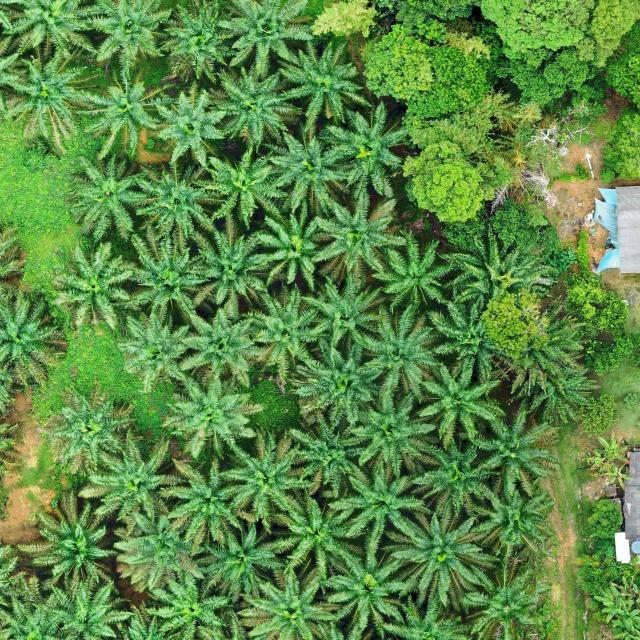Tree: (361, 23, 490, 128), (70, 51, 182, 164), (69, 428, 190, 531), (382, 506, 494, 616), (480, 0, 640, 69), (36, 378, 142, 479), (216, 424, 318, 526), (158, 368, 268, 462), (274, 35, 378, 134), (237, 280, 334, 386), (5, 49, 99, 157), (438, 229, 560, 312), (200, 60, 304, 153), (311, 181, 410, 278), (357, 303, 448, 408), (187, 140, 292, 230), (255, 125, 358, 214), (343, 384, 437, 481), (326, 459, 426, 550), (18, 498, 113, 592), (323, 538, 410, 639), (291, 338, 386, 430), (125, 235, 221, 326), (319, 96, 409, 193), (61, 152, 155, 244), (406, 432, 502, 522), (112, 504, 208, 594), (122, 158, 217, 248), (412, 359, 508, 448), (46, 239, 138, 330), (185, 219, 270, 314), (158, 456, 239, 555), (272, 490, 362, 579), (458, 557, 553, 640), (214, 0, 320, 71), (463, 479, 557, 559), (466, 400, 559, 480), (0, 282, 70, 388), (150, 74, 228, 169), (179, 302, 263, 390), (156, 0, 241, 86), (496, 44, 608, 109), (238, 567, 337, 640), (509, 306, 590, 395), (361, 237, 453, 315), (196, 516, 281, 600), (563, 278, 634, 378), (402, 141, 486, 225), (302, 271, 386, 355), (1, 0, 110, 64), (114, 307, 194, 393), (289, 418, 375, 498), (32, 577, 132, 640), (250, 205, 324, 290), (428, 292, 498, 380), (88, 0, 176, 67), (509, 366, 603, 428), (147, 573, 232, 640), (479, 290, 551, 362), (311, 0, 378, 40), (578, 394, 620, 437), (588, 498, 624, 539), (594, 586, 634, 622), (609, 608, 640, 640), (595, 435, 629, 462), (602, 462, 633, 490), (586, 449, 612, 474)
